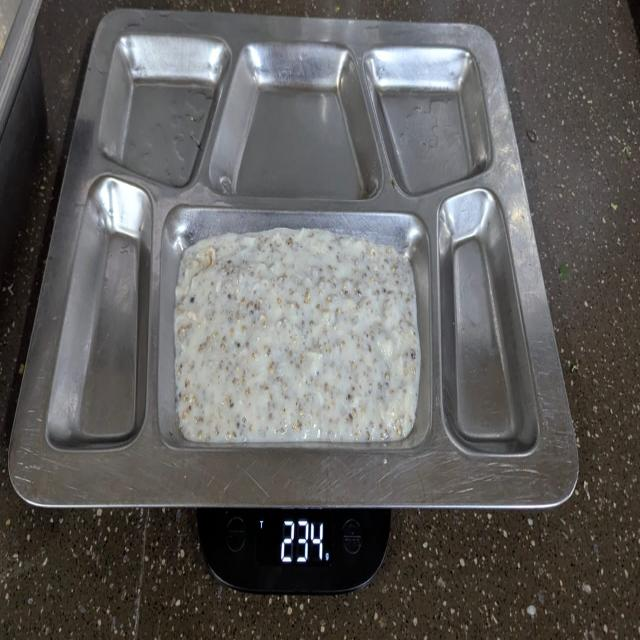Porridge: (172, 225, 423, 444)
